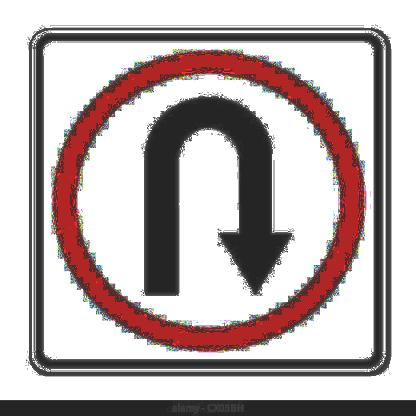U-turn: (38, 32, 384, 366)
